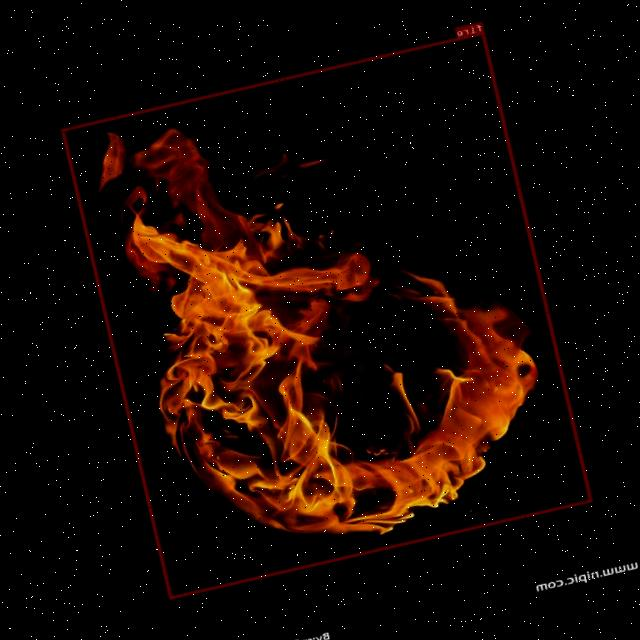fire: (61, 31, 593, 598)
